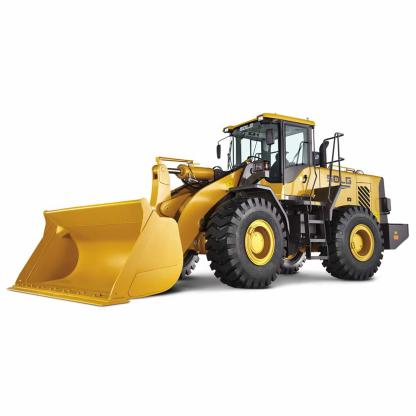bull_dozer/loader/grader: (13, 103, 414, 319)
